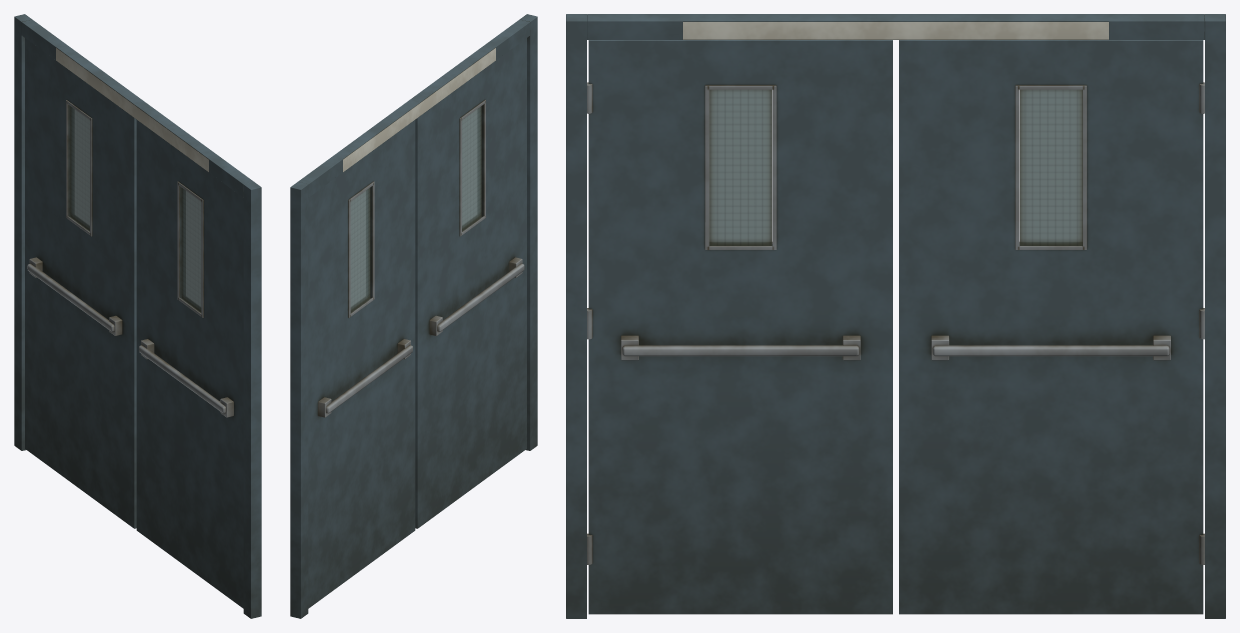
File: porta_corta_fogo_sujo_realista.glb
The picture shows the model from 3 angles, left to right: view 1: azimuth 30°, elevation 25°; view 2: azimuth 150°, elevation 25°; view 3: azimuth 270°, elevation 25°; orthographic projection. The views are drawn at different scales.
Visible parts, largest first — view 1: Folha_D, Folha_E, Batente; view 2: Folha_E, Folha_D, Batente; view 3: Folha_D, Folha_E, Batente.
Boxes of the visible parts, x1=… form: Folha_D: x1=25, y1=38, x2=136, y2=528; Folha_E: x1=136, y1=120, x2=243, y2=608; Batente: x1=14, y1=14, x2=261, y2=618; Folha_E: x1=415, y1=38, x2=526, y2=528; Folha_D: x1=308, y1=120, x2=415, y2=608; Batente: x1=290, y1=14, x2=537, y2=618; Folha_D: x1=899, y1=40, x2=1204, y2=614; Folha_E: x1=587, y1=40, x2=892, y2=614; Batente: x1=566, y1=14, x2=1225, y2=618.
Bounding box in the file's own units: 0.14 × 2.2 × 2.2.
Materials: 2 (2 with a texture image).
